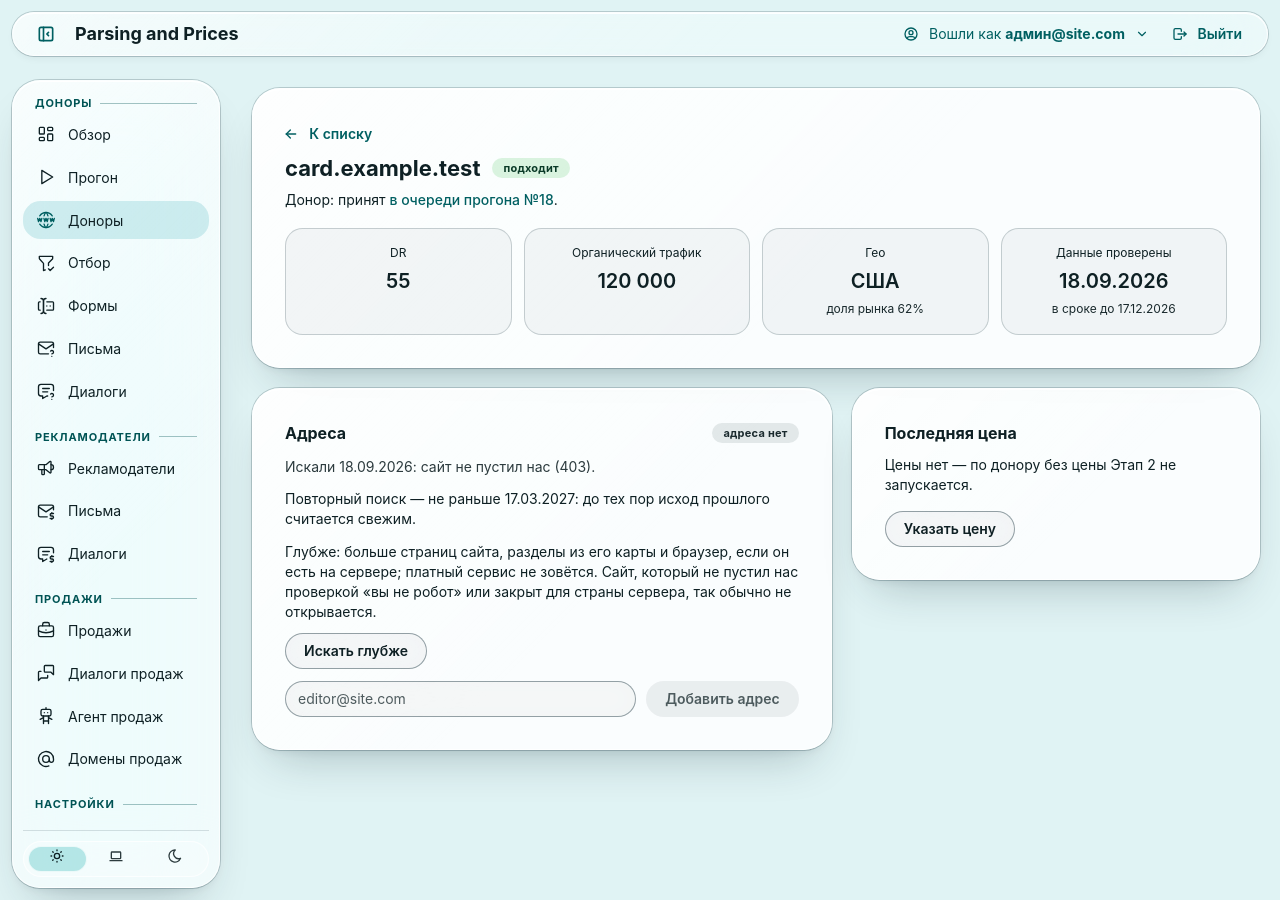
карточка донора: «адреса нет» и поиск глубже › отказ сервера — уведомлением его словами
The width and height of the screenshot is (1280, 900).
Expected: the heading "card.example.test" is shown, [285,153,480,184]
Click the button "Искать глубже" at (356, 651), box [285,633,427,669]
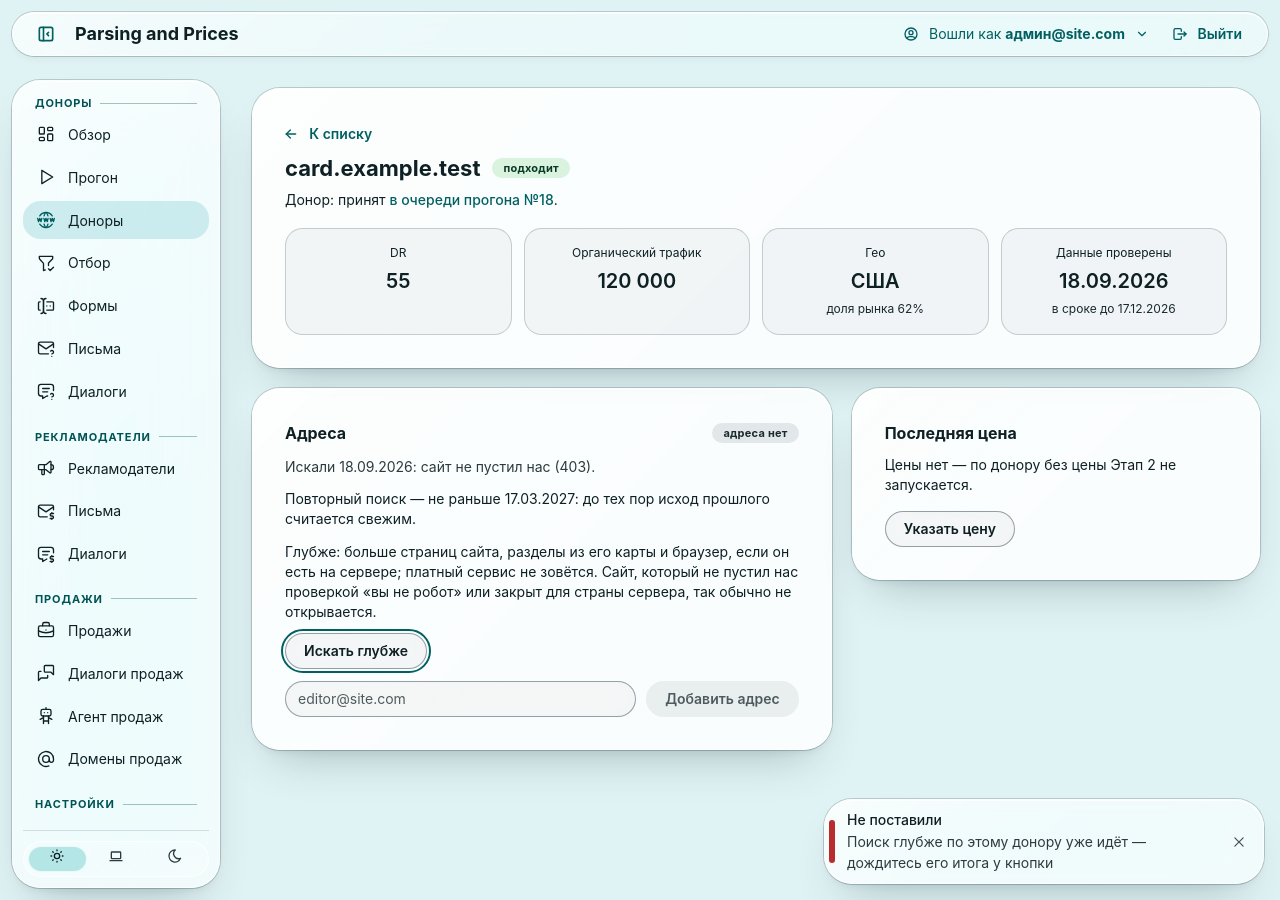
Expected: the text "уже идёт — дождитесь его итога" is shown, [847,833,1146,871]
